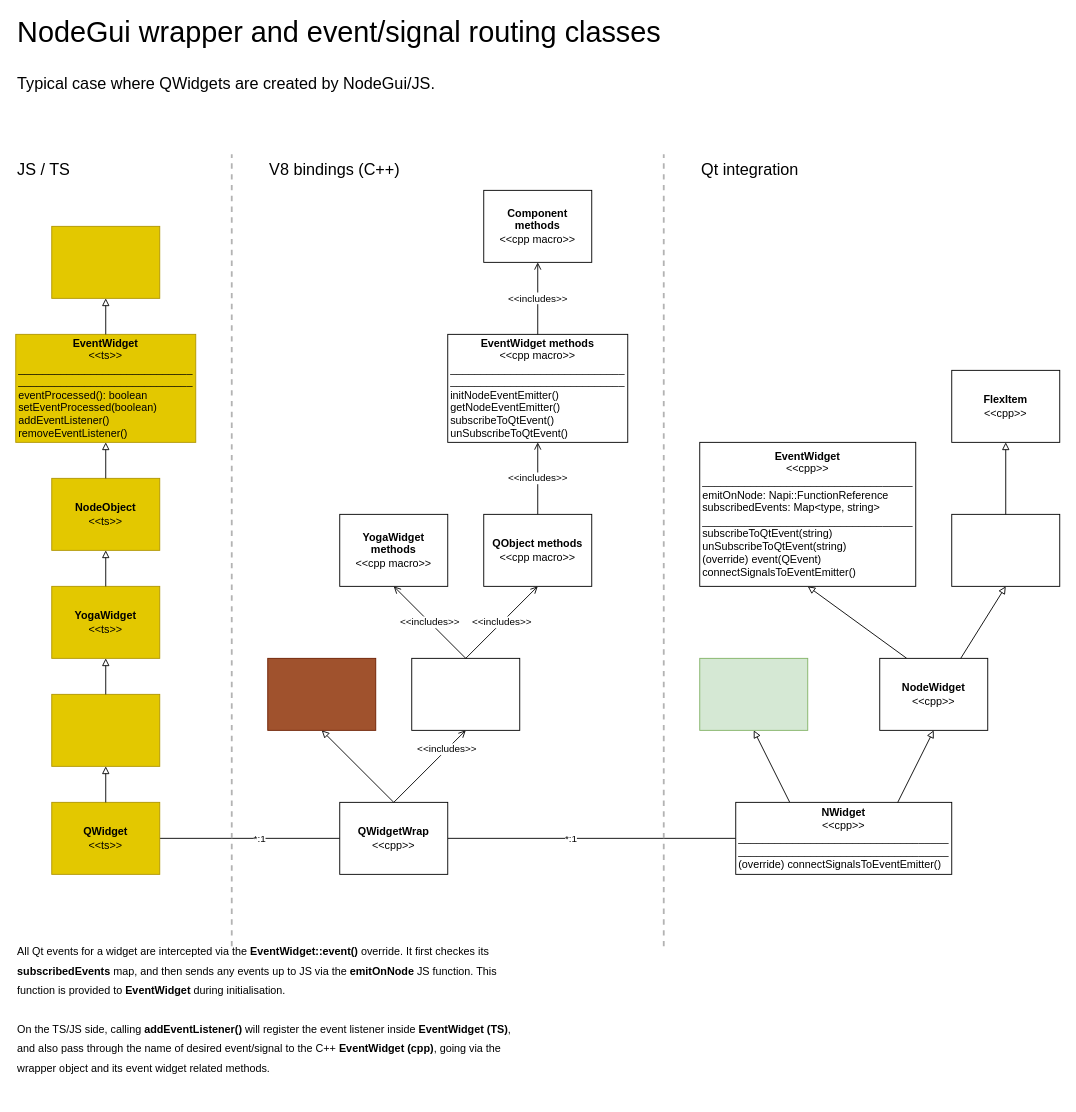
The diagram is 1076 pixels wide and 1112 high, and some of its shapes have lost their labels. Each missing label, with the box of its shape:
Component <<ts>>: (51, 225, 160, 298)
Napi::ObjectWrap <<cpp>>: (267, 657, 376, 730)
NodeWidget <<ts>>: (51, 693, 160, 766)
Qt::QWidget <<cpp>>: (699, 657, 808, 730)
QWidget methods <<cpp macro>>: (411, 657, 520, 730)
YogaWidget <<cpp>>: (951, 513, 1060, 586)
